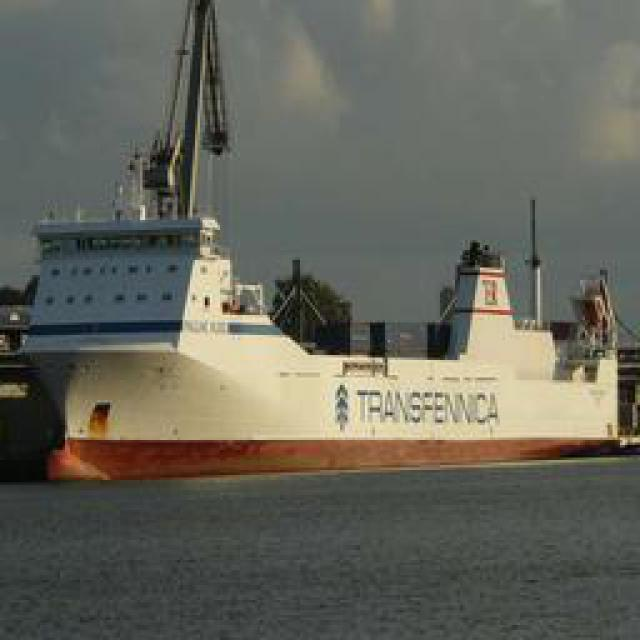Ship: (11, 213, 629, 478)
